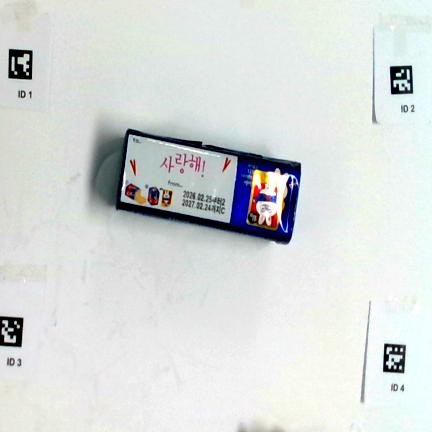cracker_ace: (116, 128, 301, 246)
